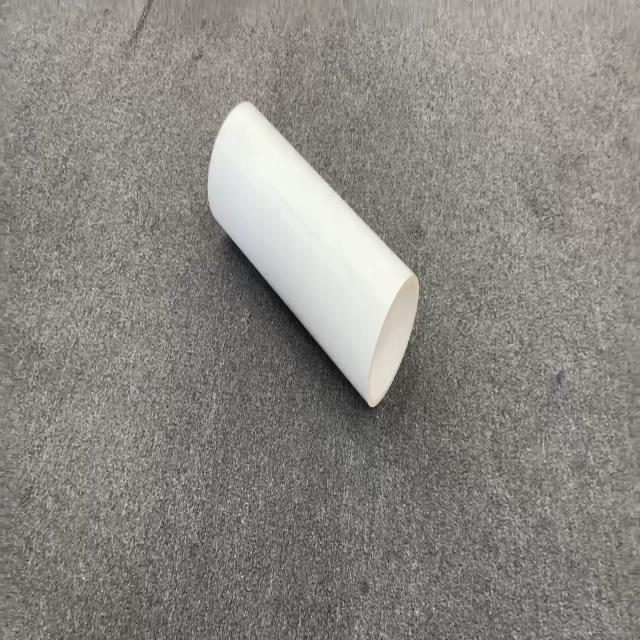coral: (206, 98, 420, 409)
